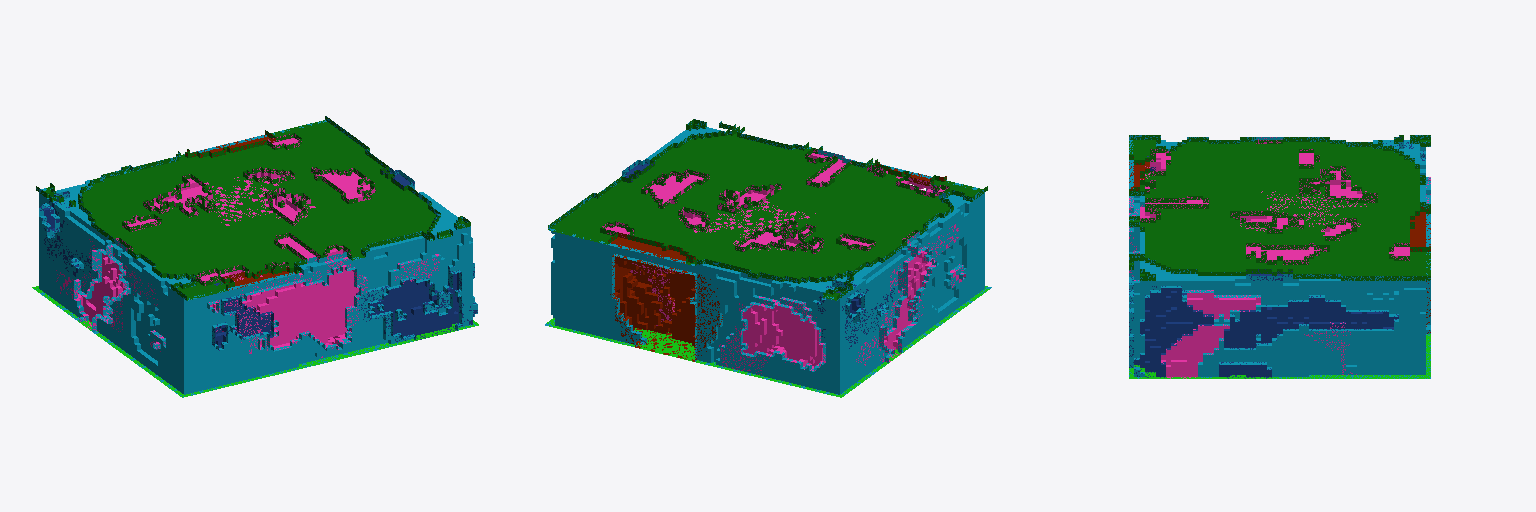
The model's file is Input_prediction.obj.
3 views of the same model, side by side, from view 1: azimuth 30°, elevation 25°; view 2: azimuth 150°, elevation 25°; view 3: azimuth 270°, elevation 25° (orthographic).
Parts seen in each view (by area): view 1: Cube; view 2: Cube; view 3: Cube.
Part boxes in pixels (left/top/right/bottom): Cube: left=32, top=116, right=478, bottom=397; Cube: left=545, top=119, right=991, bottom=397; Cube: left=1129, top=135, right=1430, bottom=378.
Size of the model in its own units: 5.2 by 1.68 by 4.56.